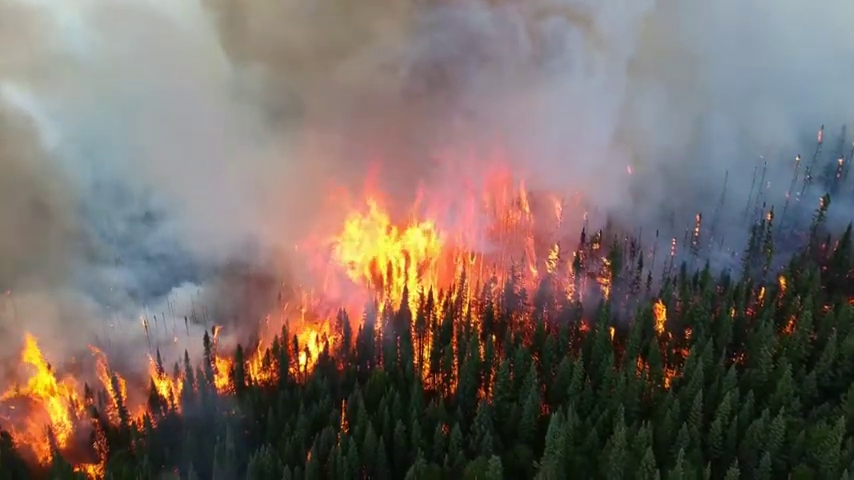forest_fire: (333, 199, 482, 317), (2, 333, 85, 462), (289, 300, 343, 372), (90, 346, 126, 399), (149, 359, 189, 399), (209, 327, 233, 391), (410, 320, 432, 378), (244, 340, 274, 381), (653, 300, 666, 334), (546, 243, 559, 273)
